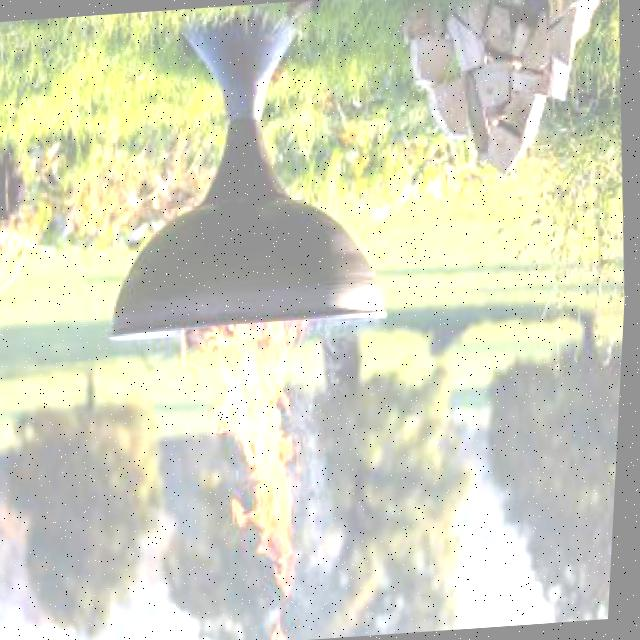Fire: (176, 318, 329, 588)
